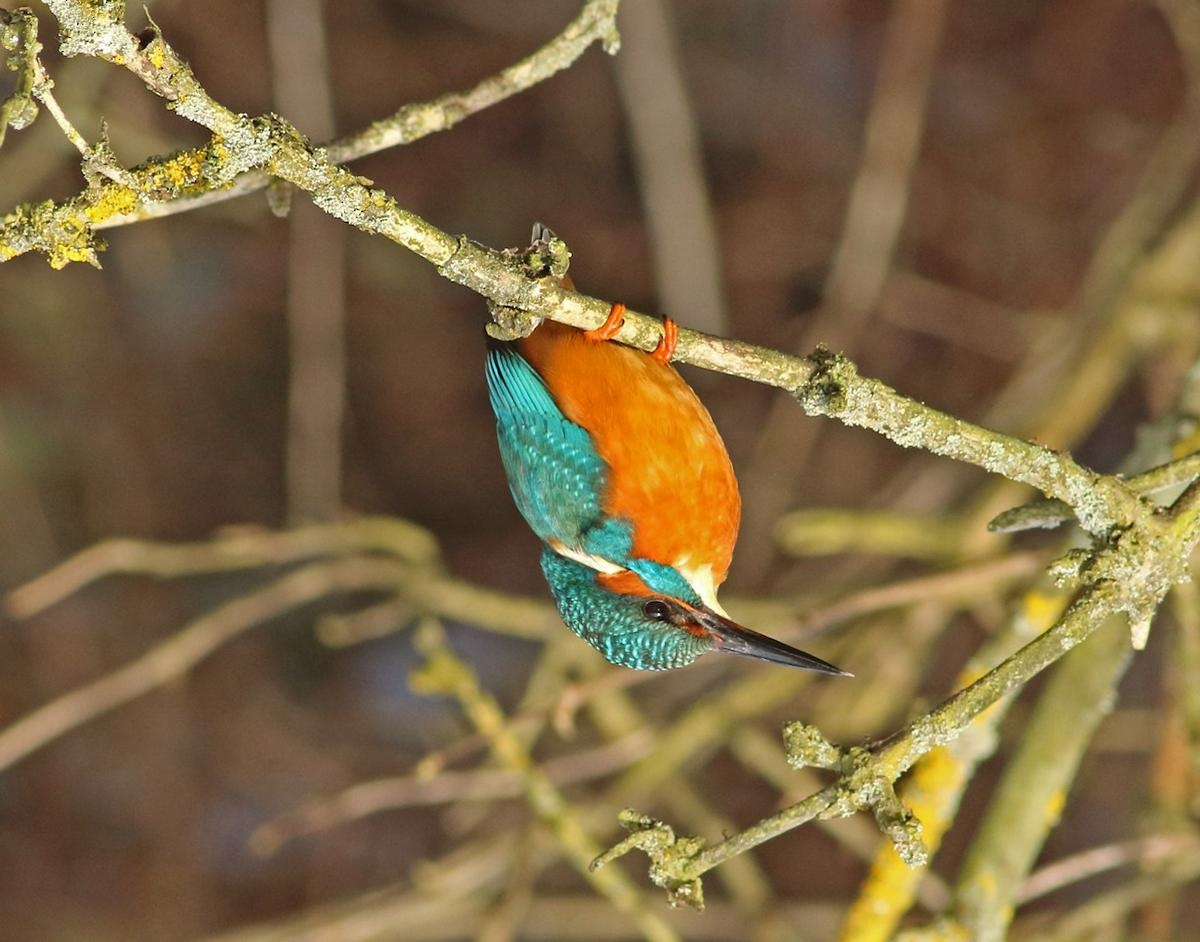kingfisher: (454, 225, 911, 765)
